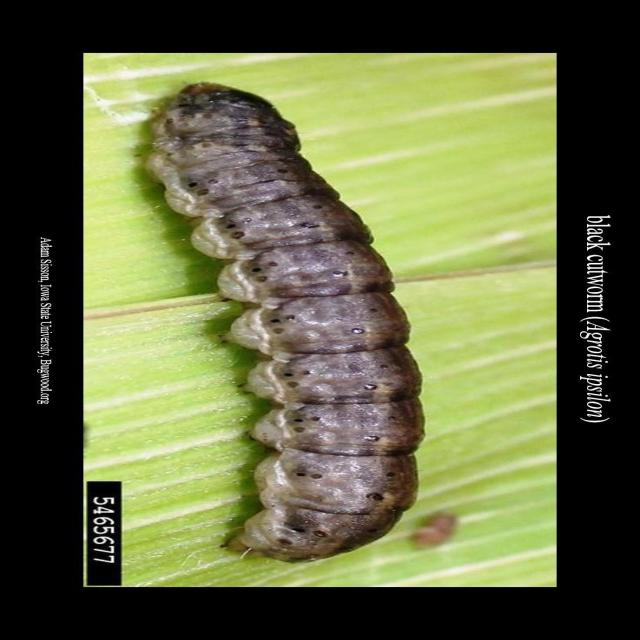black cutworm: (150, 79, 440, 559)
